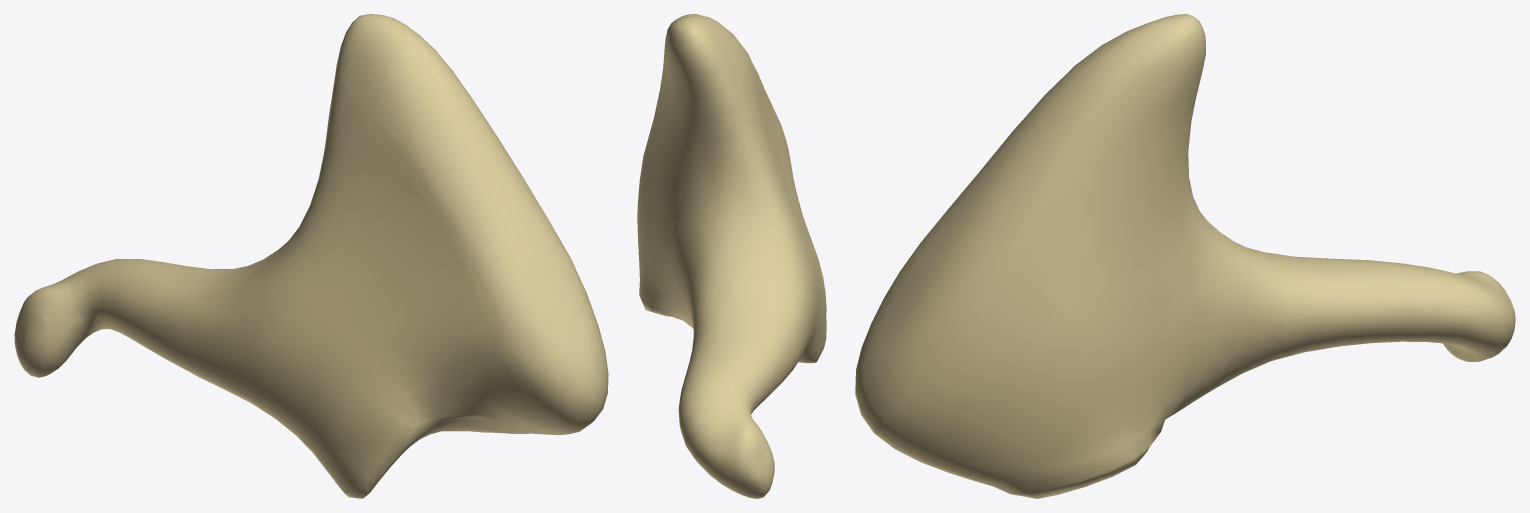
The picture shows the model from 3 angles, left to right: view 1: azimuth 30°, elevation 25°; view 2: azimuth 150°, elevation 25°; view 3: azimuth 270°, elevation 25°; orthographic projection. The views are drawn at different scales.
Parts seen in each view (by area): view 1: 左侧砧骨; view 2: 左侧砧骨; view 3: 左侧砧骨.
Boxes of the visible parts, box(x1,y1,x2,y2) form: 左侧砧骨: box(14, 14, 608, 498); 左侧砧骨: box(637, 14, 826, 498); 左侧砧骨: box(855, 14, 1515, 498).
Size of the model in its own units: 0.00622 by 0.00721 by 0.00918.
